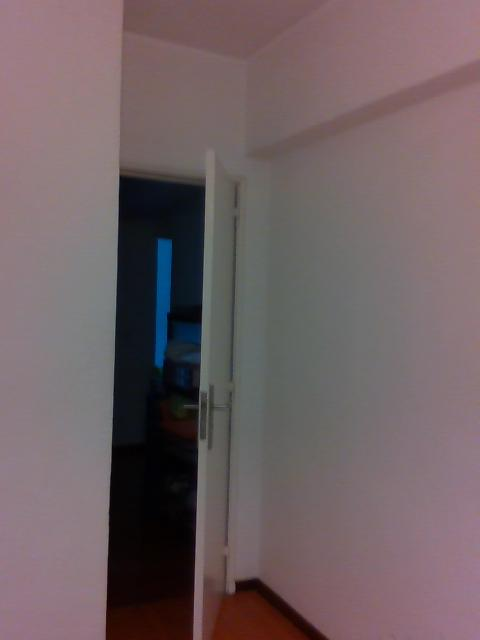semi_door: (109, 147, 244, 639)
